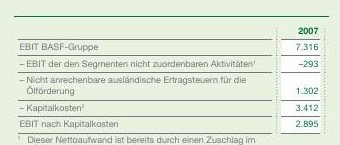table: (0, 0, 340, 145)
